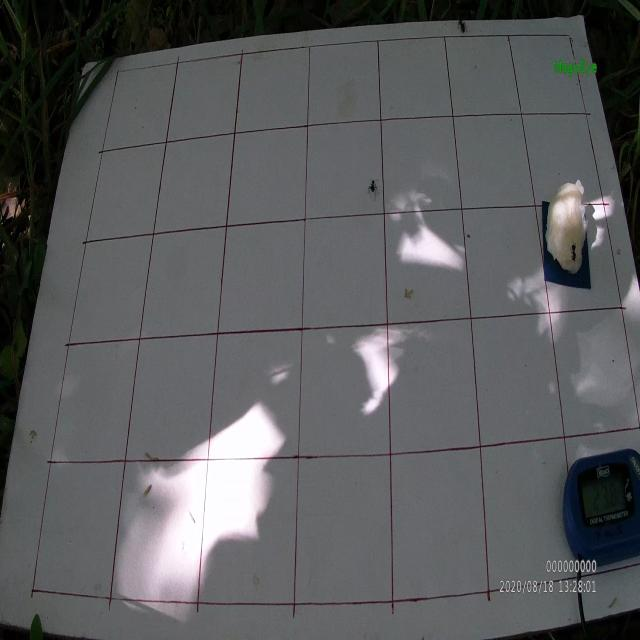Ant: (567, 237, 578, 263), (367, 178, 379, 197), (458, 18, 467, 34)
